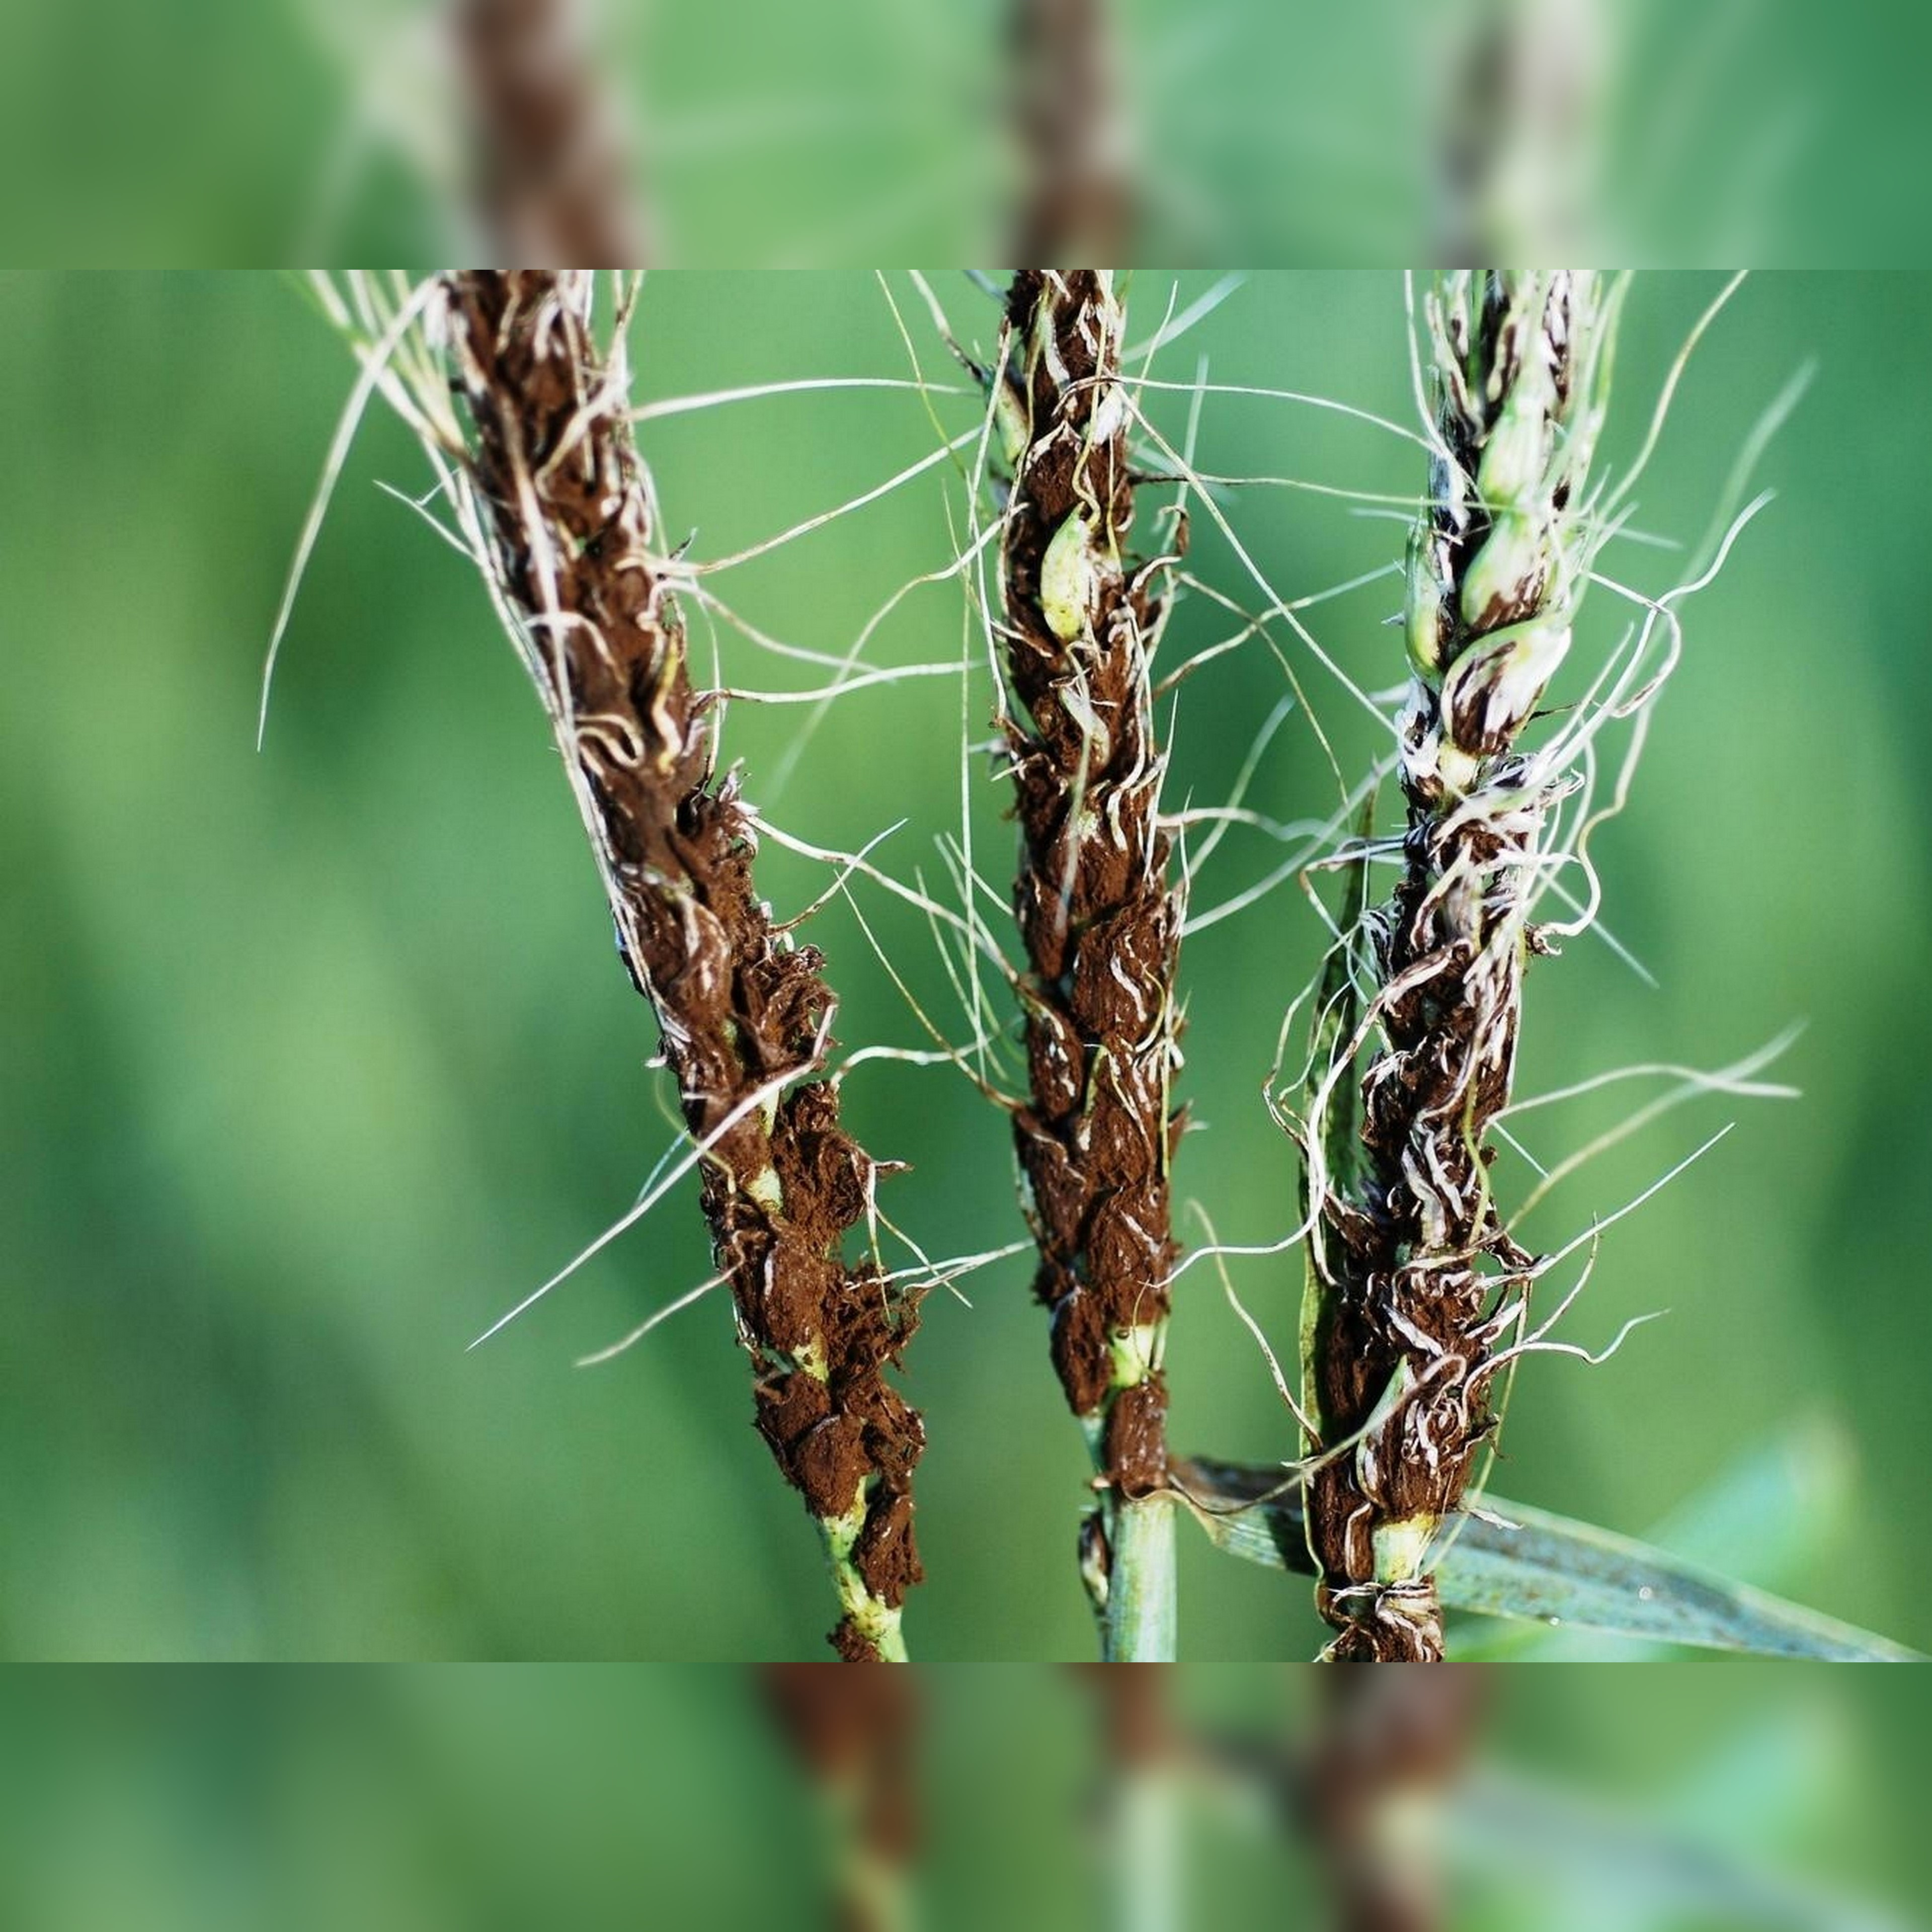Wheat Loose Smut: (975, 267, 1629, 1591), (380, 276, 959, 1576)
